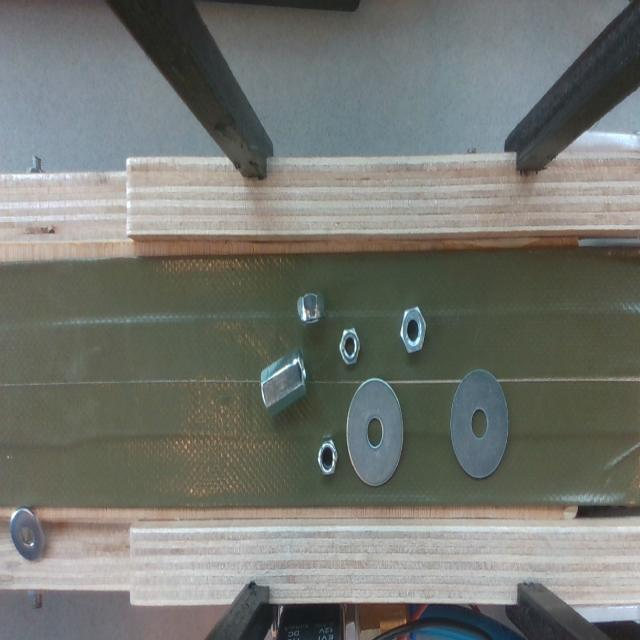Nut: (260, 350, 306, 415), (400, 307, 426, 352), (339, 328, 360, 365), (298, 293, 324, 322), (318, 440, 338, 476)
washer: (450, 369, 509, 478), (346, 378, 404, 487), (10, 507, 45, 560)
